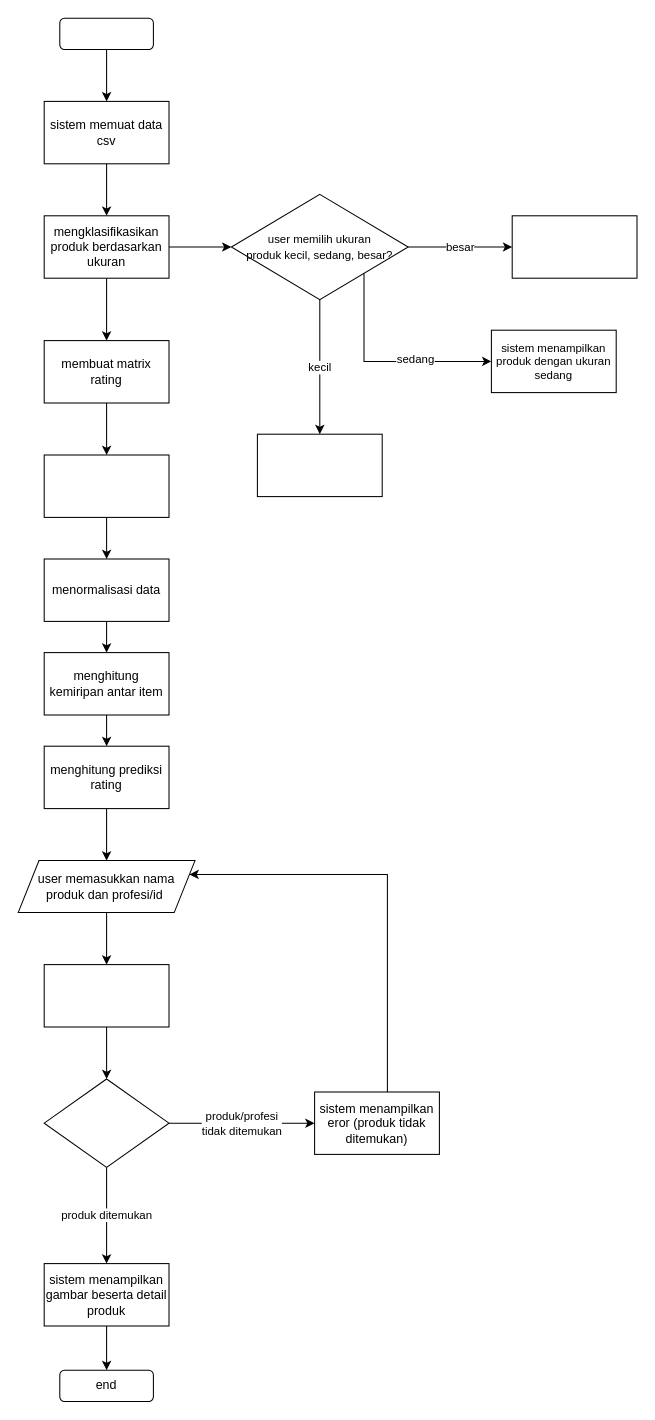
The diagram is 655 pixels wide and 1420 high, and some of its shapes have lost their labels. Here are the shapes that lost their labels. From the top down, the centre of each, then its label:
point 106,33: Mulai
point 574,246: sistem menampilkan produk dengan ukuran besarl
point 106,485: menghapus nilai yang kosong
point 319,465: sistem menampilkan produk dengan ukuran kecil
point 106,995: user menekan button rekomendasi
point 106,1122: produk/profesi ditemukan?
